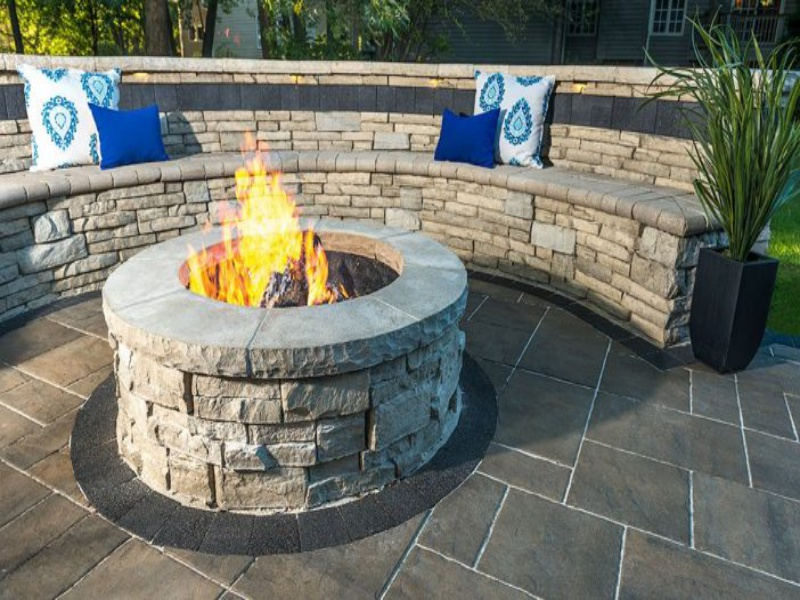fire: (231, 151, 299, 295), (192, 222, 235, 288), (305, 224, 331, 293)
